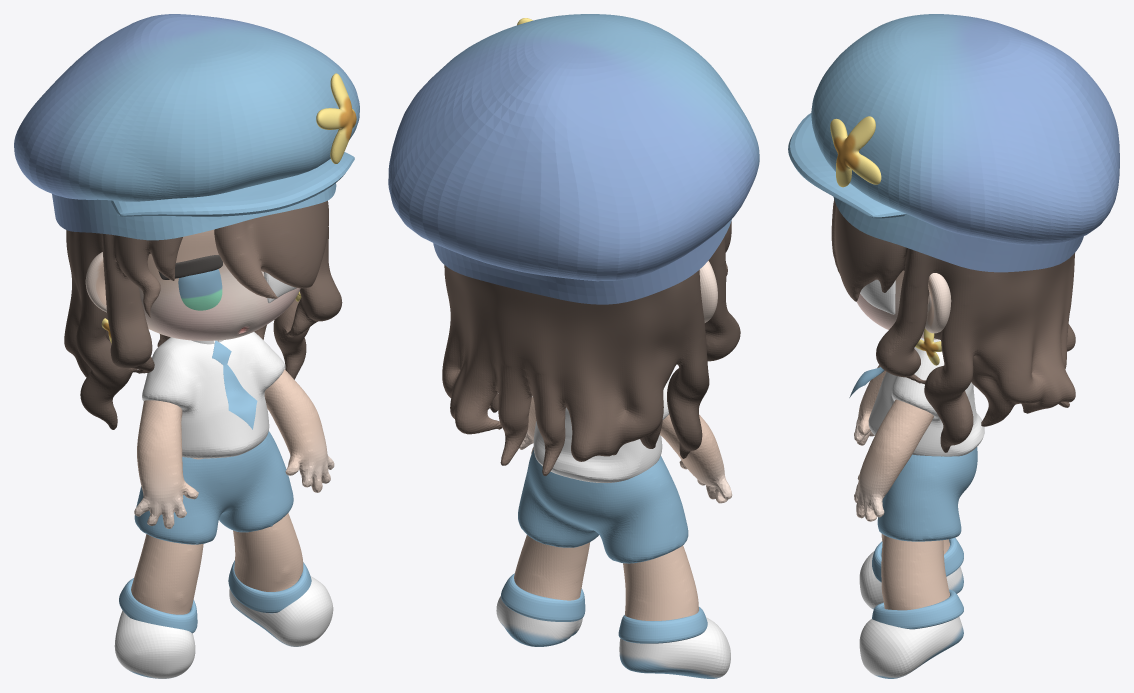
Rendered from 小桂花.glb.
The picture shows the model from 3 angles, left to right: view 1: azimuth 30°, elevation 25°; view 2: azimuth 150°, elevation 25°; view 3: azimuth 270°, elevation 25°; orthographic projection. The views are drawn at different scales.
Parts seen in each view (by area): view 1: 帽子, Sphere (×2), Cylinder (×5), 身体, Sphere 1, 头部, Radial, Box 1, 耳朵, Tube; view 2: 帽子, Sphere, Cylinder (×5), Sphere 1, 身体, 耳朵; view 3: 帽子, Sphere, Cylinder (×5), 身体, Sphere 1, Radial, 耳朵, 头部, Box, Radial 1.
Part boxes in pixels (box(x1,y1,x2,y2)): 帽子: box(14, 14, 359, 240); Sphere (×2): box(64, 200, 342, 429); Cylinder (×5): box(114, 332, 333, 678); 身体: box(131, 369, 334, 614); Sphere 1: box(134, 431, 293, 544); 头部: box(138, 229, 300, 340); Radial: box(316, 73, 356, 163); Box 1: box(223, 364, 257, 429); 耳朵: box(85, 252, 106, 312); Tube: box(158, 255, 222, 279); 帽子: box(388, 14, 759, 304); Sphere: box(442, 221, 740, 475); Cylinder (×5): box(496, 378, 730, 678); Sphere 1: box(518, 450, 688, 563); 身体: box(514, 397, 732, 620); 耳朵: box(699, 260, 717, 322); 帽子: box(788, 14, 1119, 272); Sphere: box(831, 199, 1075, 452); Cylinder (×5): box(859, 338, 984, 678); 身体: box(854, 365, 949, 610); Sphere 1: box(877, 447, 977, 541); Radial: box(830, 116, 881, 187); 耳朵: box(925, 273, 951, 333); 头部: box(856, 270, 938, 339); Box: box(860, 279, 895, 314); Radial 1: box(915, 328, 941, 365).
Size of the model in its own units: 1.19 by 2.23 by 1.12.
